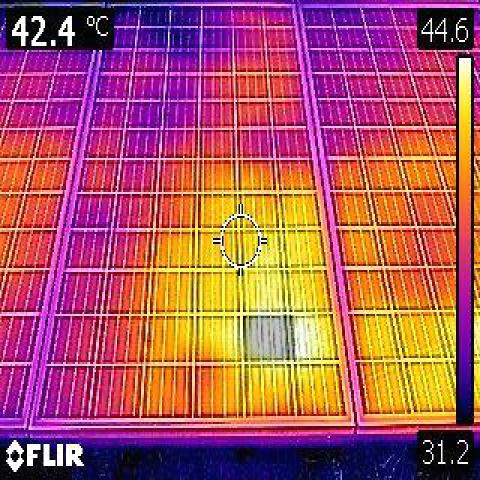fault: (243, 315, 295, 360)
